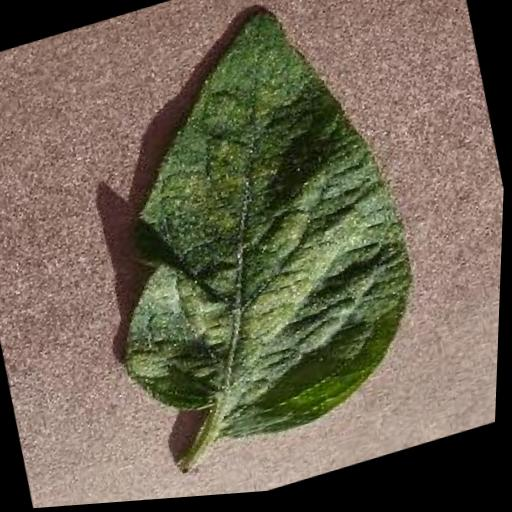Spider Mites: (57, 0, 449, 480)
